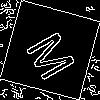M: (24, 24, 85, 83)
